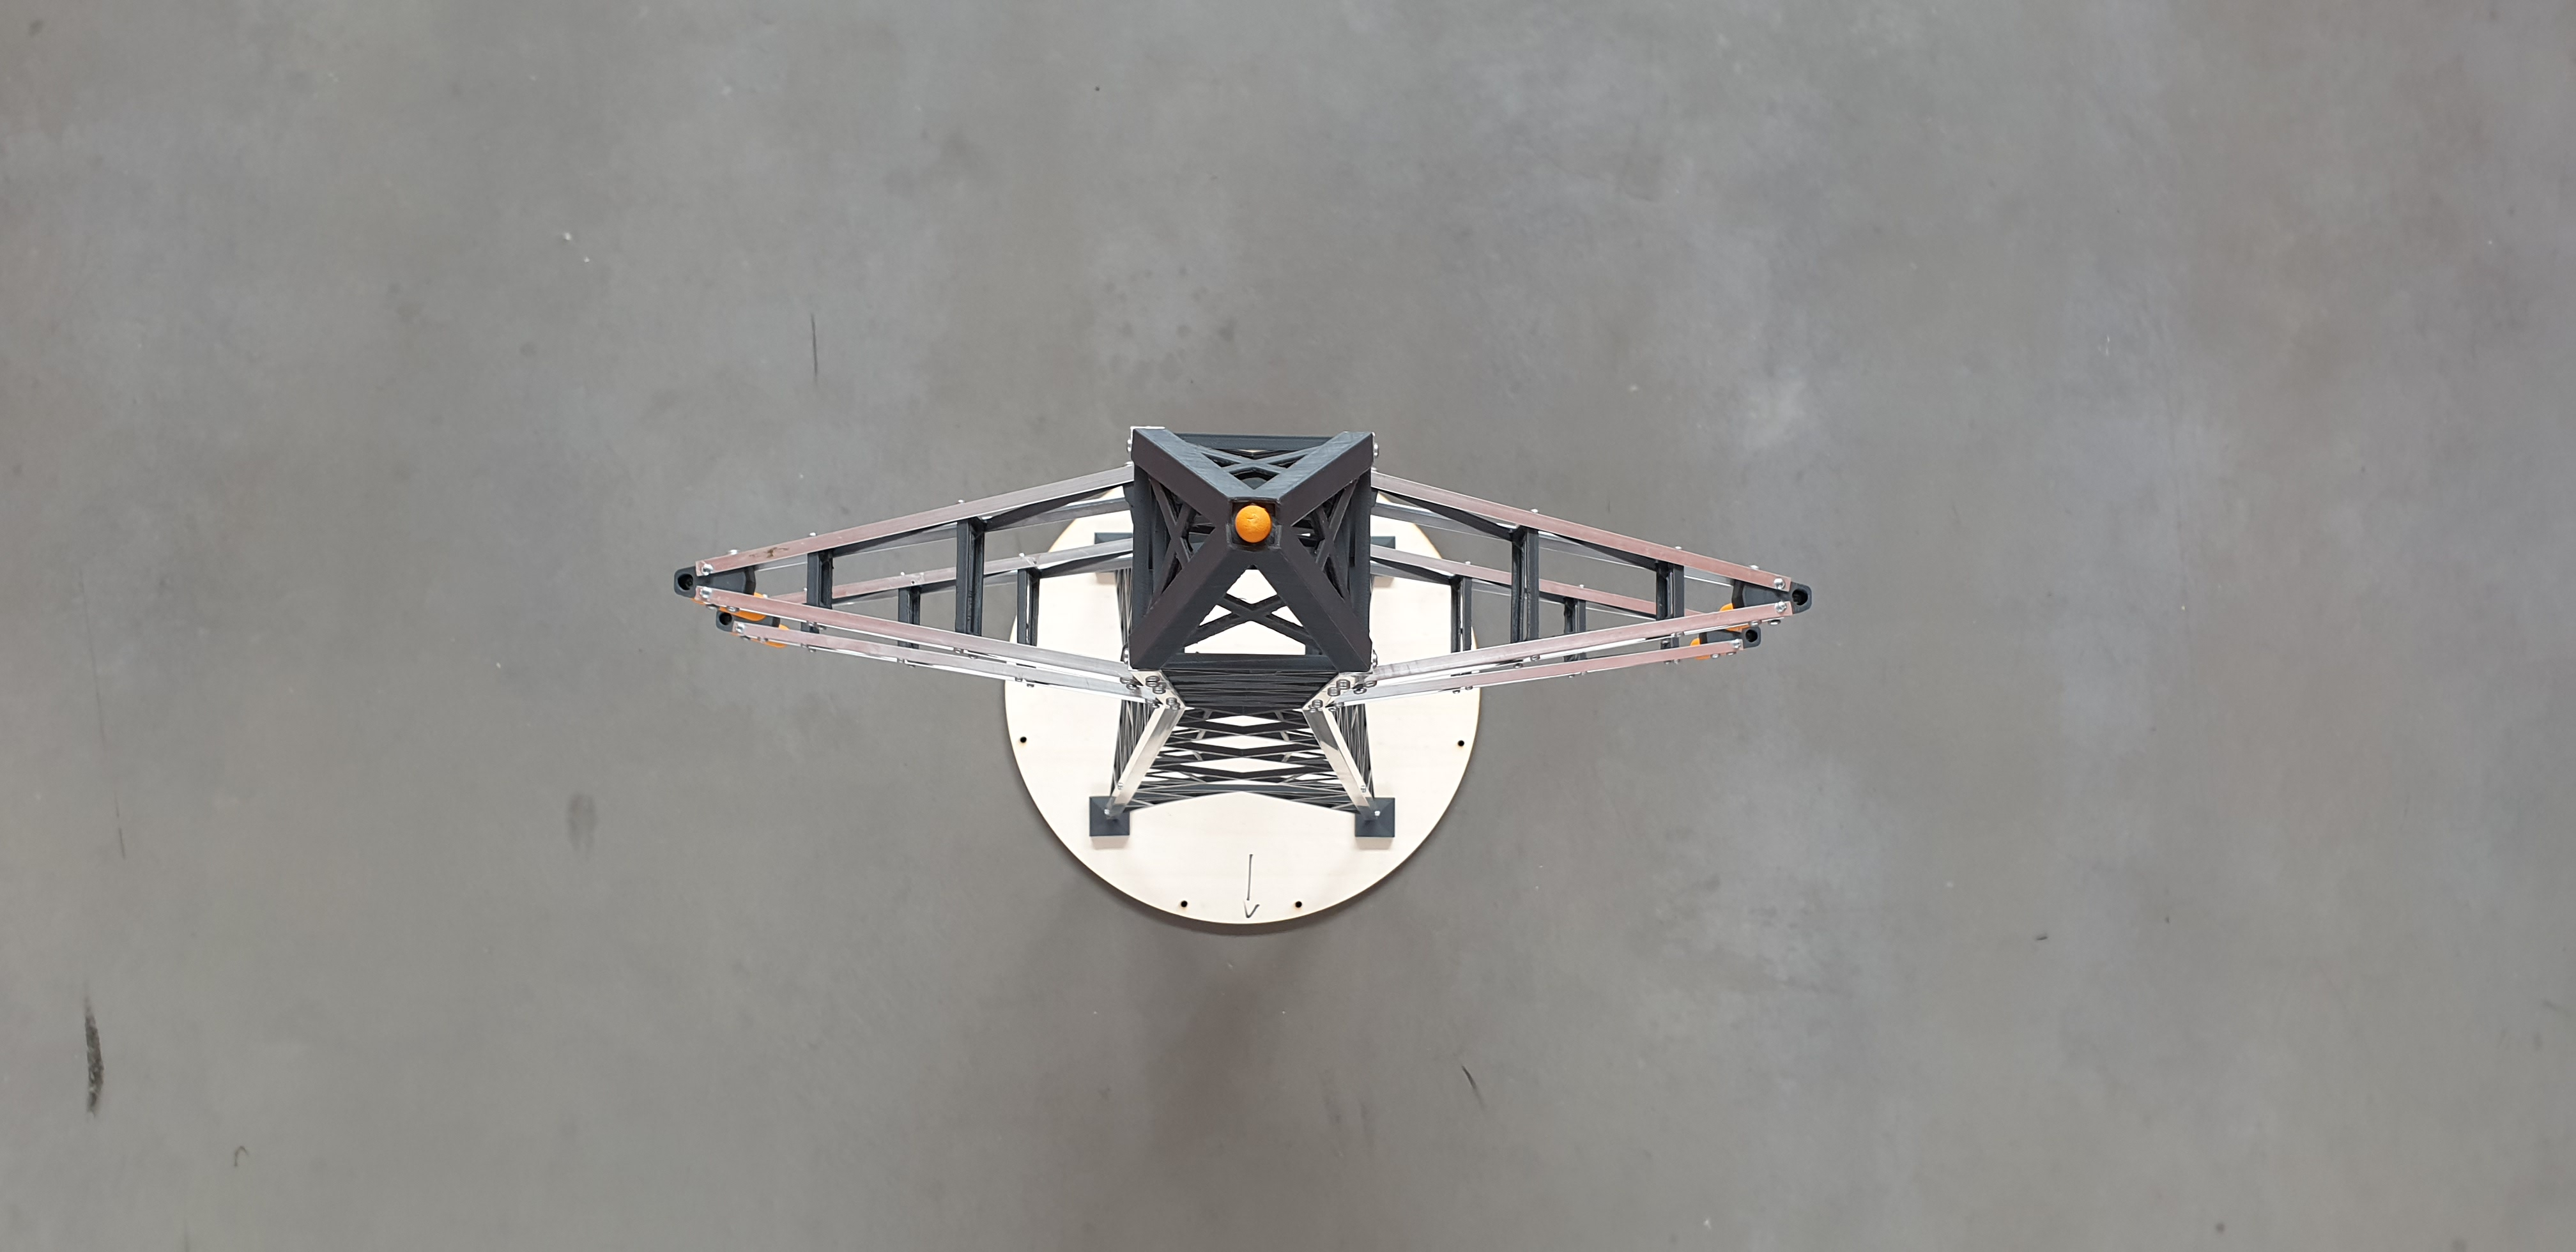pylon_phy: (667, 416, 1817, 698)
